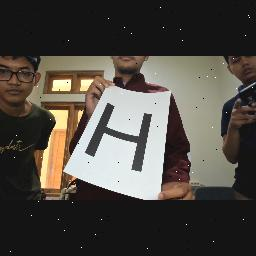h: (82, 100, 154, 176)
